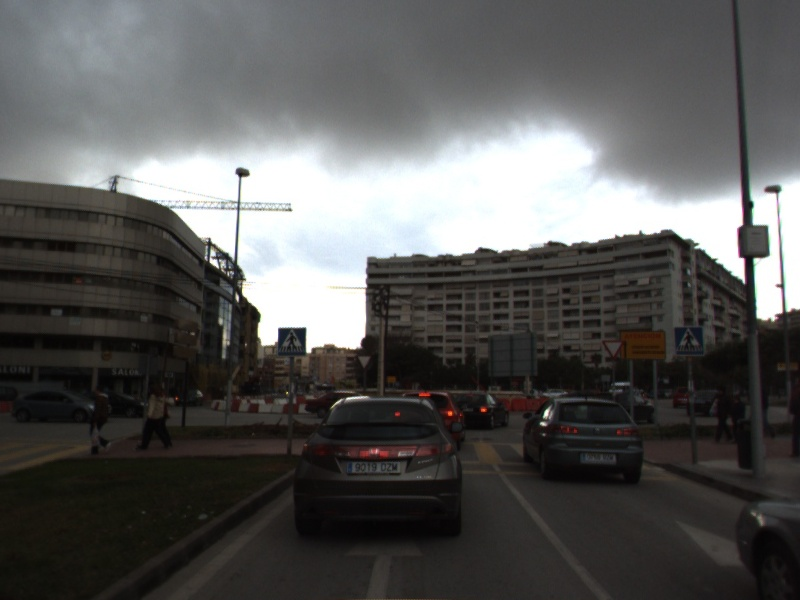STRAIGHT: (342, 526, 427, 600)
